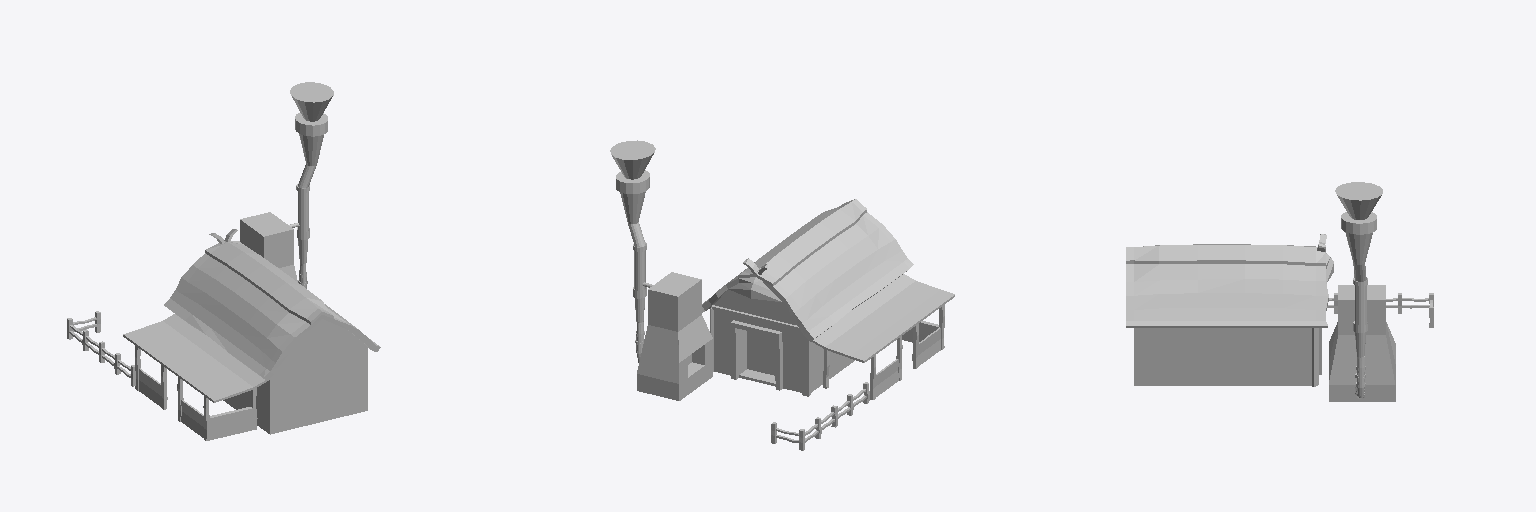
Rendered from blacksmiths.obj.
3 renders of one model, left to right at view 1: azimuth 30°, elevation 25°; view 2: azimuth 150°, elevation 25°; view 3: azimuth 270°, elevation 25°, orthographic.
Parts seen in each view (by area): view 1: twnhouse; view 2: twnhouse; view 3: twnhouse.
Boxes of the visible parts, x1=… form: twnhouse: x1=67, y1=82, x2=380, y2=440; twnhouse: x1=610, y1=140, x2=954, y2=450; twnhouse: x1=1126, y1=182, x2=1433, y2=401.
Size of the model in its own units: 381 by 354 by 445.